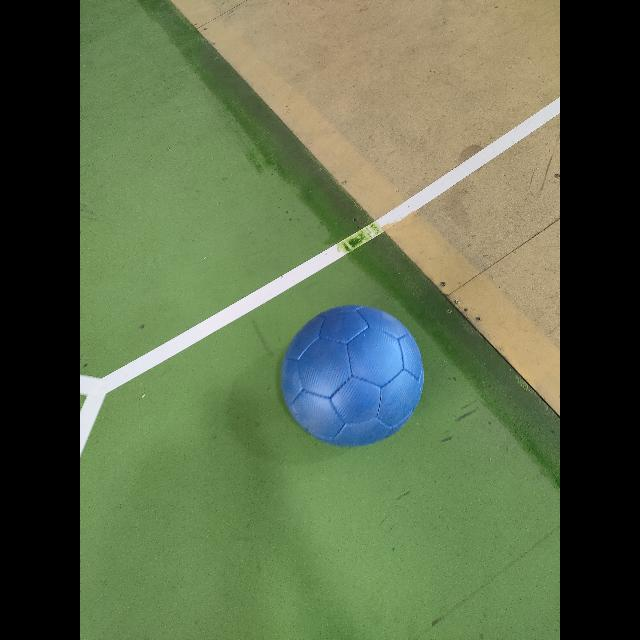B: (281, 306, 423, 446)
